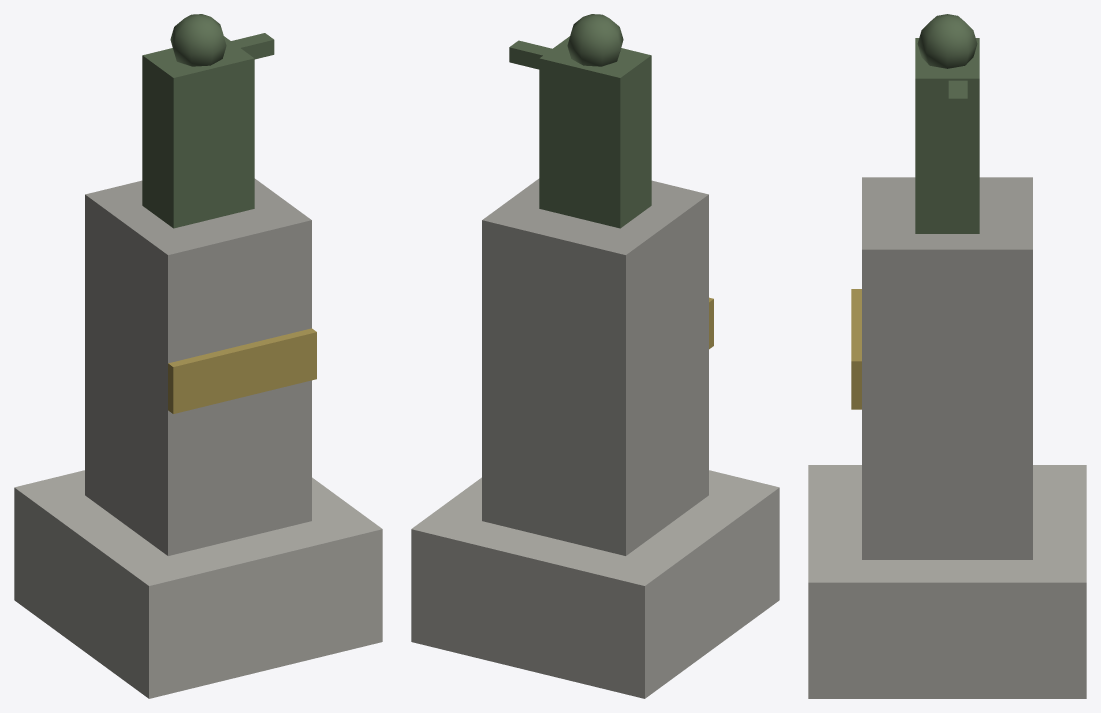
The model's file is p_leninstatue.glb.
3 views of the same model, side by side, from view 1: azimuth 30°, elevation 25°; view 2: azimuth 150°, elevation 25°; view 3: azimuth 270°, elevation 25° (orthographic). The views are drawn at different scales.
Parts seen in each view (by area): view 1: body; view 2: body; view 3: body.
Boxes of the visible parts, box(x1,y1,x2,y2) form: body: box(14, 14, 382, 698); body: box(411, 14, 779, 698); body: box(808, 14, 1086, 698).
Bounding box in the file's own units: 2.6 × 6.43 × 2.6.
